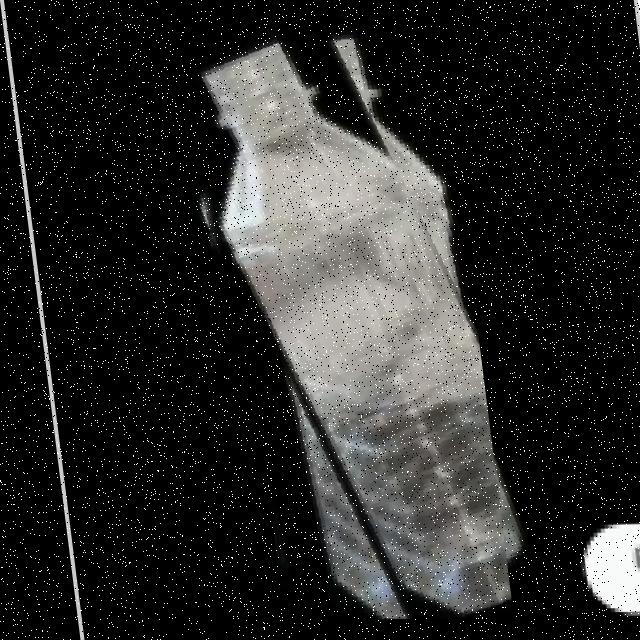litter: (165, 10, 497, 623)
